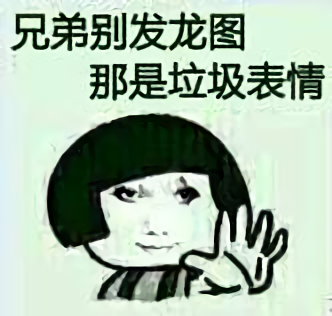dragon: (112, 183, 203, 259)
